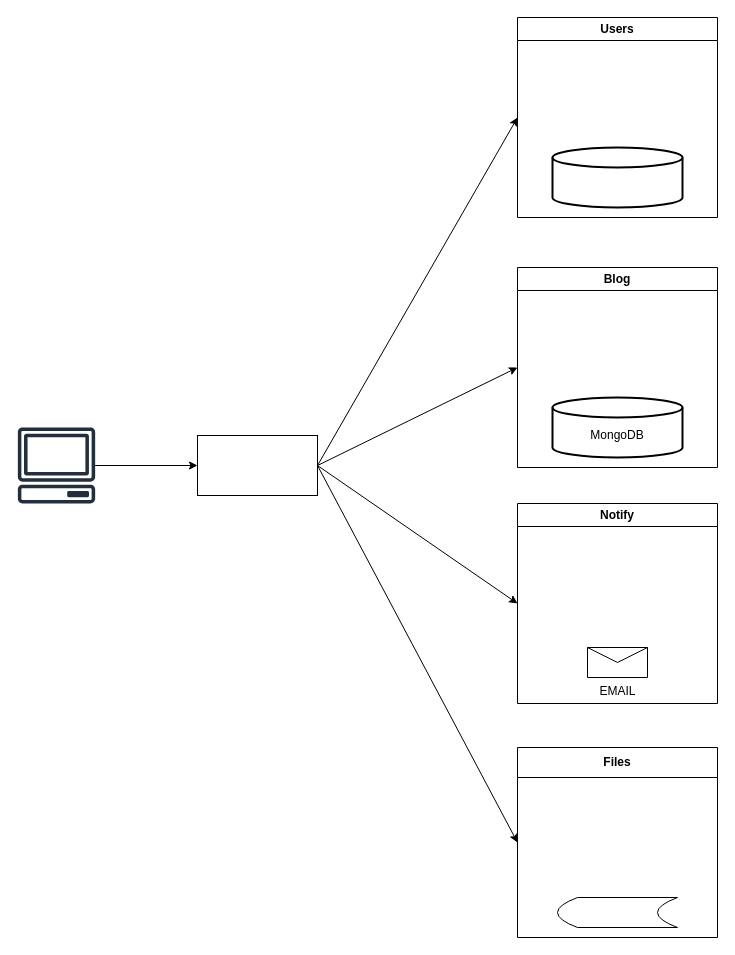
The diagram is 735 pixels wide and 955 high, and some of its shapes have lost their labels. Each missing label, with the centre of its shape:
API Gateway: point (257, 465)
FS: point (617, 912)
PostgresSQL: point (617, 177)
